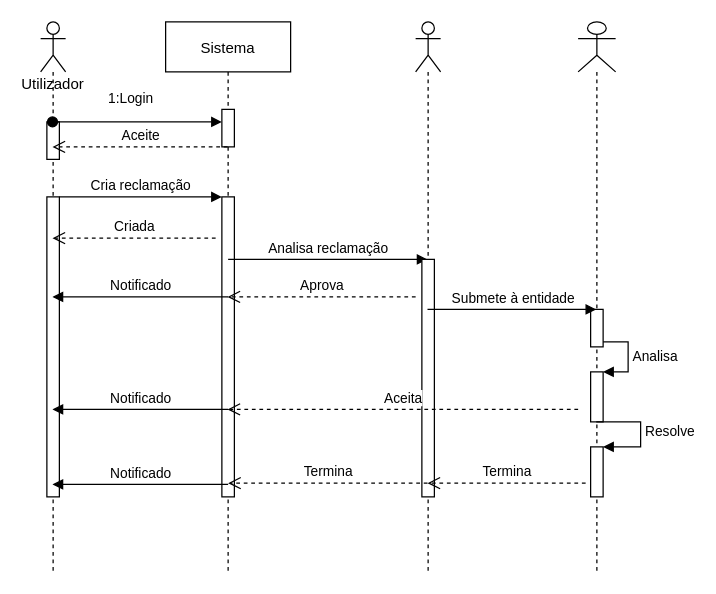
This 716x594 diagram has some shape labels left out. Each missing label, with the centre of its shape:
"Administrador" goes at point (427, 296).
"Funcionário" goes at point (596, 296).
